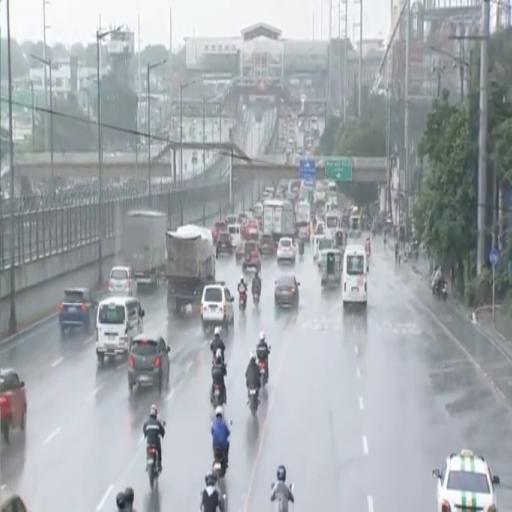bus: (342, 246, 368, 307)
car: (433, 450, 500, 511), (128, 334, 170, 391), (0, 368, 26, 443), (59, 288, 97, 335), (201, 282, 234, 331), (274, 275, 299, 308), (109, 266, 136, 295), (314, 238, 335, 267), (242, 240, 261, 271), (277, 237, 296, 263), (0, 494, 29, 511), (216, 231, 233, 255), (212, 221, 227, 244), (259, 234, 275, 255), (235, 240, 244, 263), (225, 214, 236, 226)
motorcycle: (146, 443, 160, 489), (146, 444, 160, 489), (212, 448, 226, 483), (213, 450, 226, 482), (212, 382, 224, 408), (432, 280, 447, 300), (248, 387, 259, 414), (259, 358, 267, 388), (275, 495, 289, 511), (239, 292, 247, 309), (253, 288, 260, 305), (442, 283, 447, 301), (299, 239, 304, 257), (221, 493, 226, 510)
truck: (166, 224, 215, 313), (121, 211, 167, 290), (263, 200, 295, 243), (295, 200, 311, 242)
